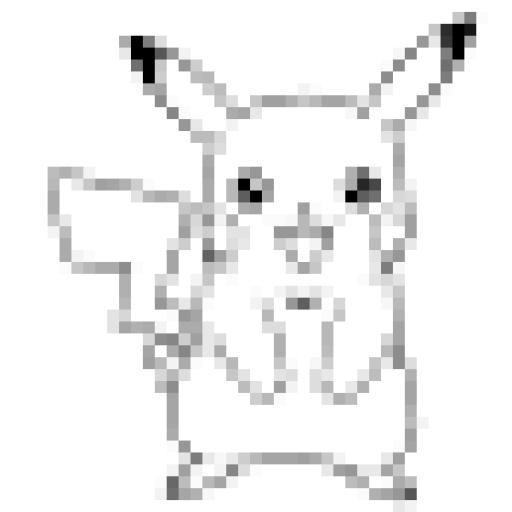Pikachu: (49, 14, 480, 505)
